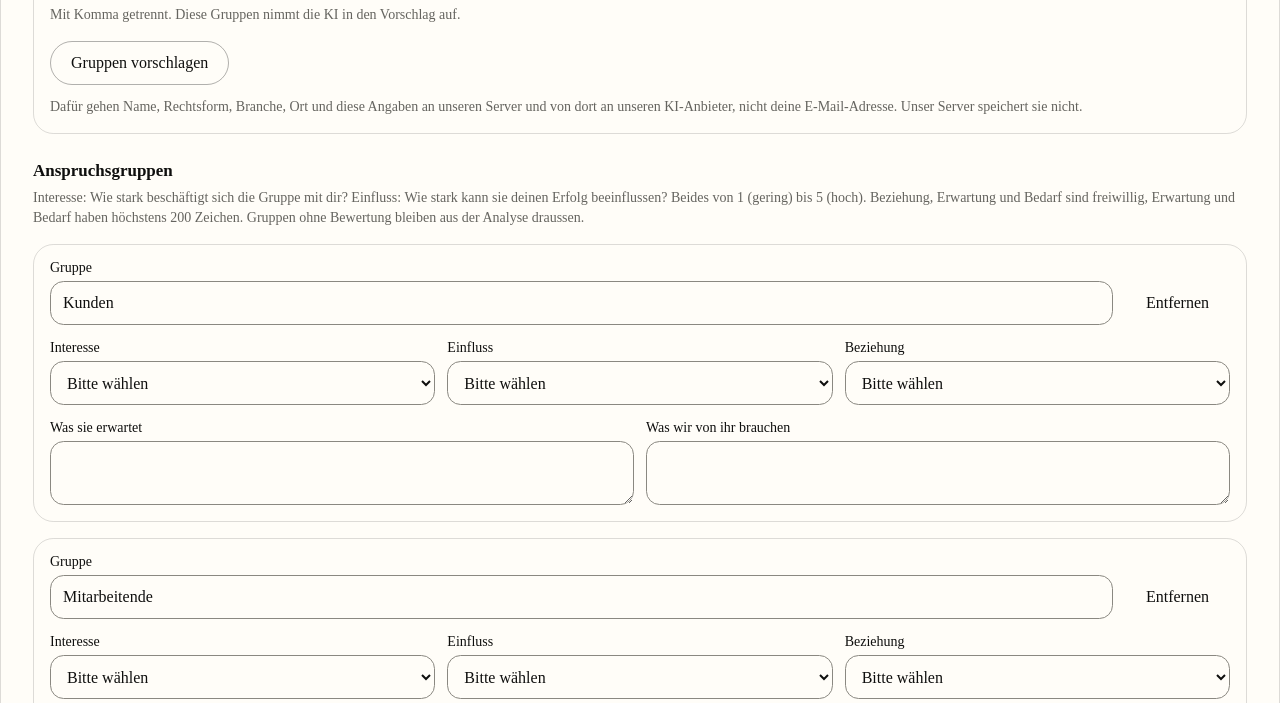
Anspruchsgruppen: Formular › lässt die Gruppen bei eingetragenen Werten stehen, nennt die Vorlage im Hinweis und lädt sie auf Knopfdruck
(page scrolled)
Expected: the field named "Gruppe 1" is shown, [50,281,1113,325]
Select "5 (hoch)" in the dropdown named "Interesse: Kunden" at (243, 383), box [50,361,435,405]
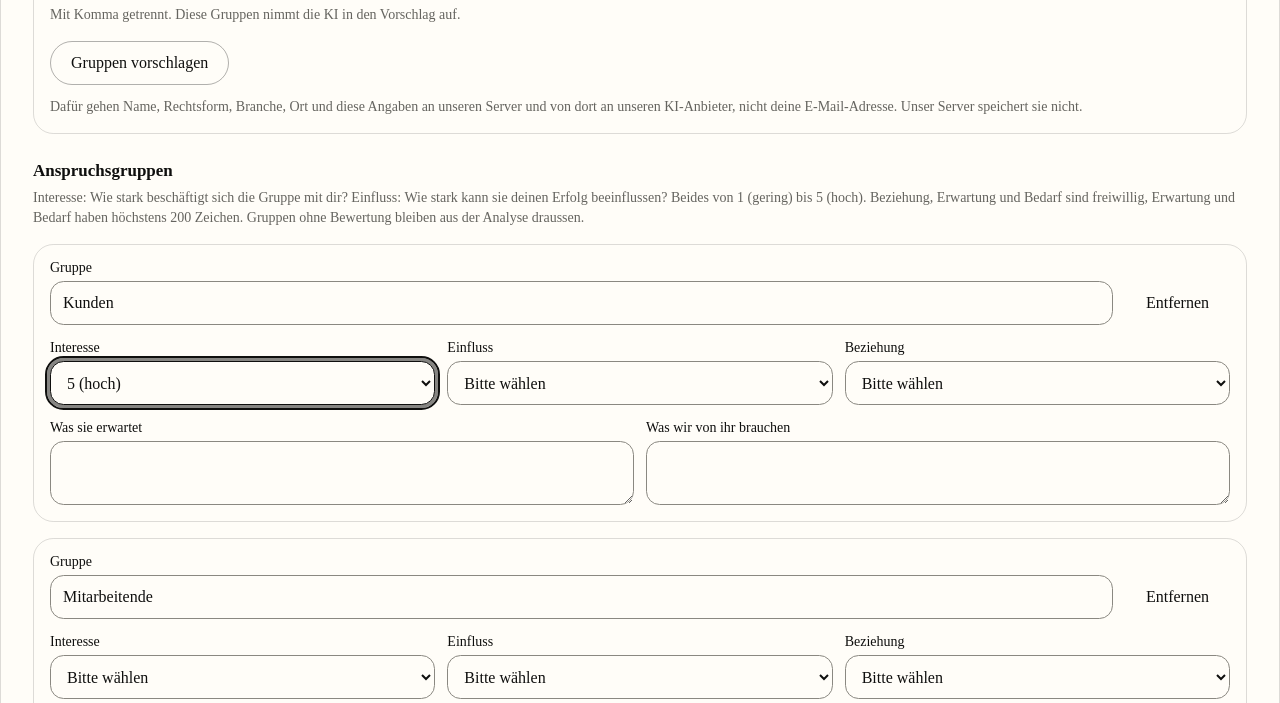
Select "5 (hoch)" in the 1st dropdown labelled "Einfluss" at (640, 383), box [447,361,833,405]
(page scrolled)
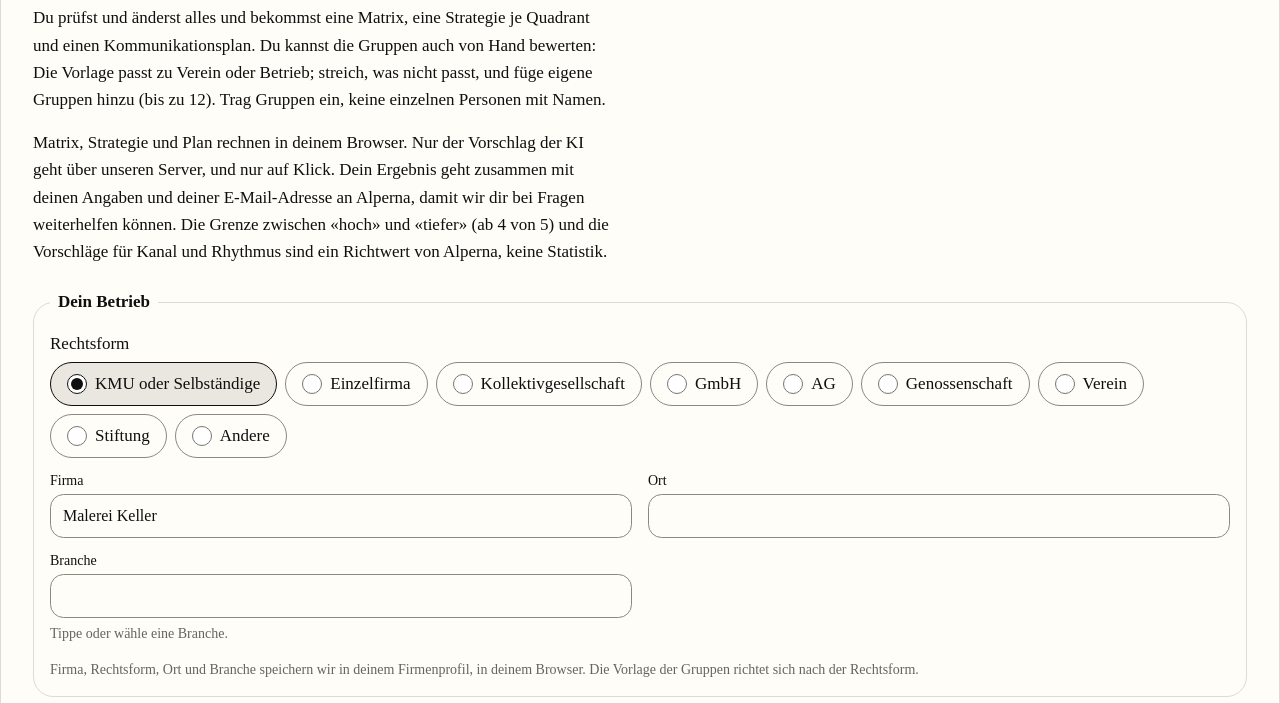
Click the radio button labelled "Verein" at (1064, 384), box [1054,374,1074,394]
(page scrolled)
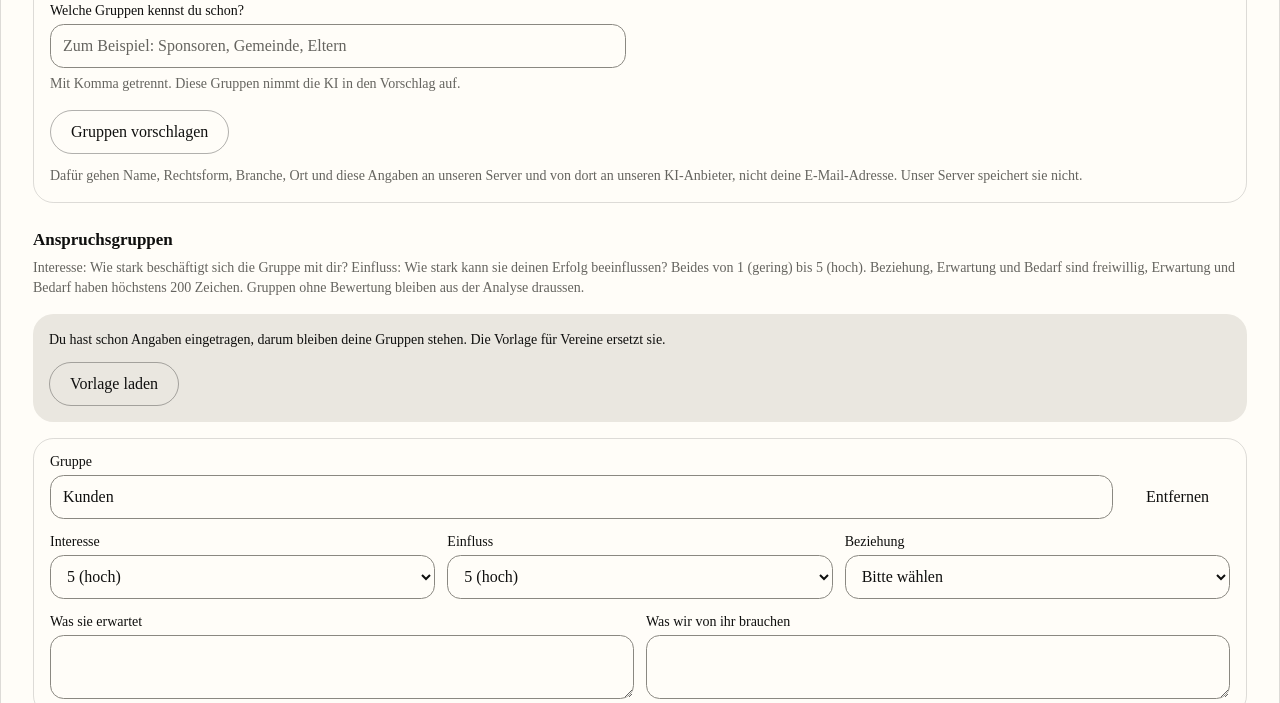
Expected: the field named "Gruppe 1" holds "Kunden", [50,475,1113,519]
Expected: the message with test id "ag-typhinweis" shows "Du hast schon Angaben eingetragen, darum bleiben deine Gruppen stehen.", [49,332,560,347]
Expected: the message with test id "ag-typhinweis" shows "Vorlage für Vereine", [33,314,1247,422]
Click the button "Vorlage laden" at (114, 384), box [49,362,179,406]
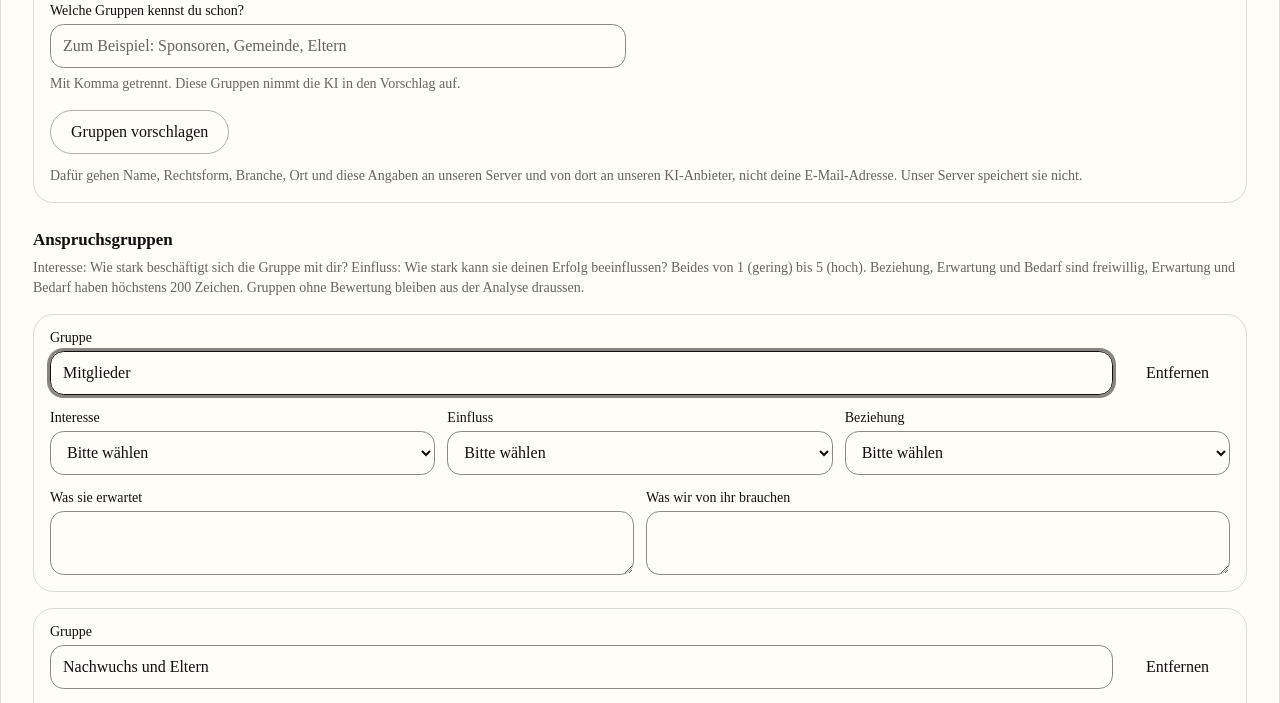
Expected: the field named "Gruppe 1" holds "Mitglieder", [50,351,1113,395]
Expected: the message with test id "ag-typhinweis" is gone
